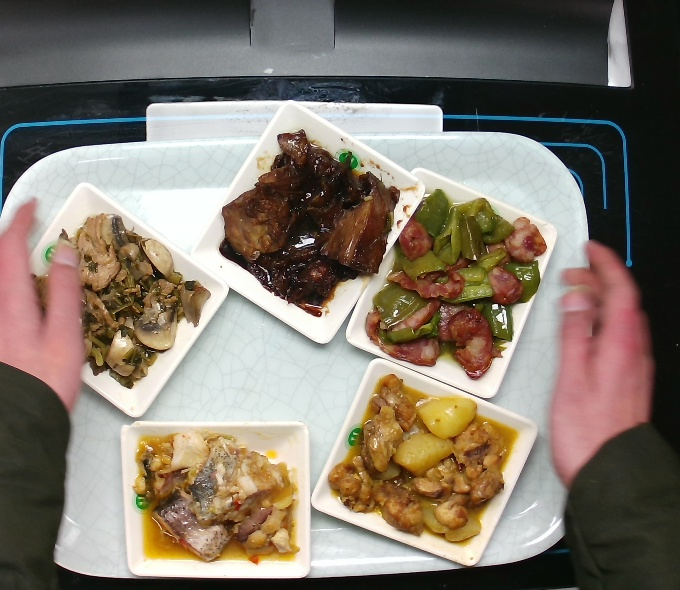wcq-JiangZhiYa: (216, 127, 401, 319)
wcq-QingJiaoXiangChang: (364, 186, 550, 382)
wcq-SuanCaiYu: (134, 429, 301, 562)
wcq-TuDouJiKuai: (330, 372, 522, 549)
